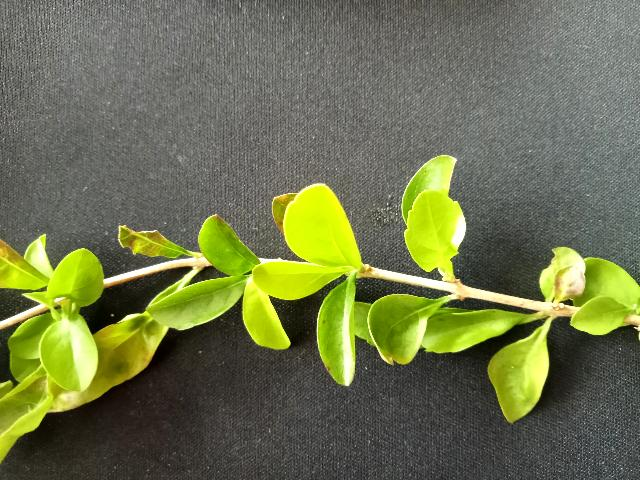pylokantus: (1, 120, 640, 480)
